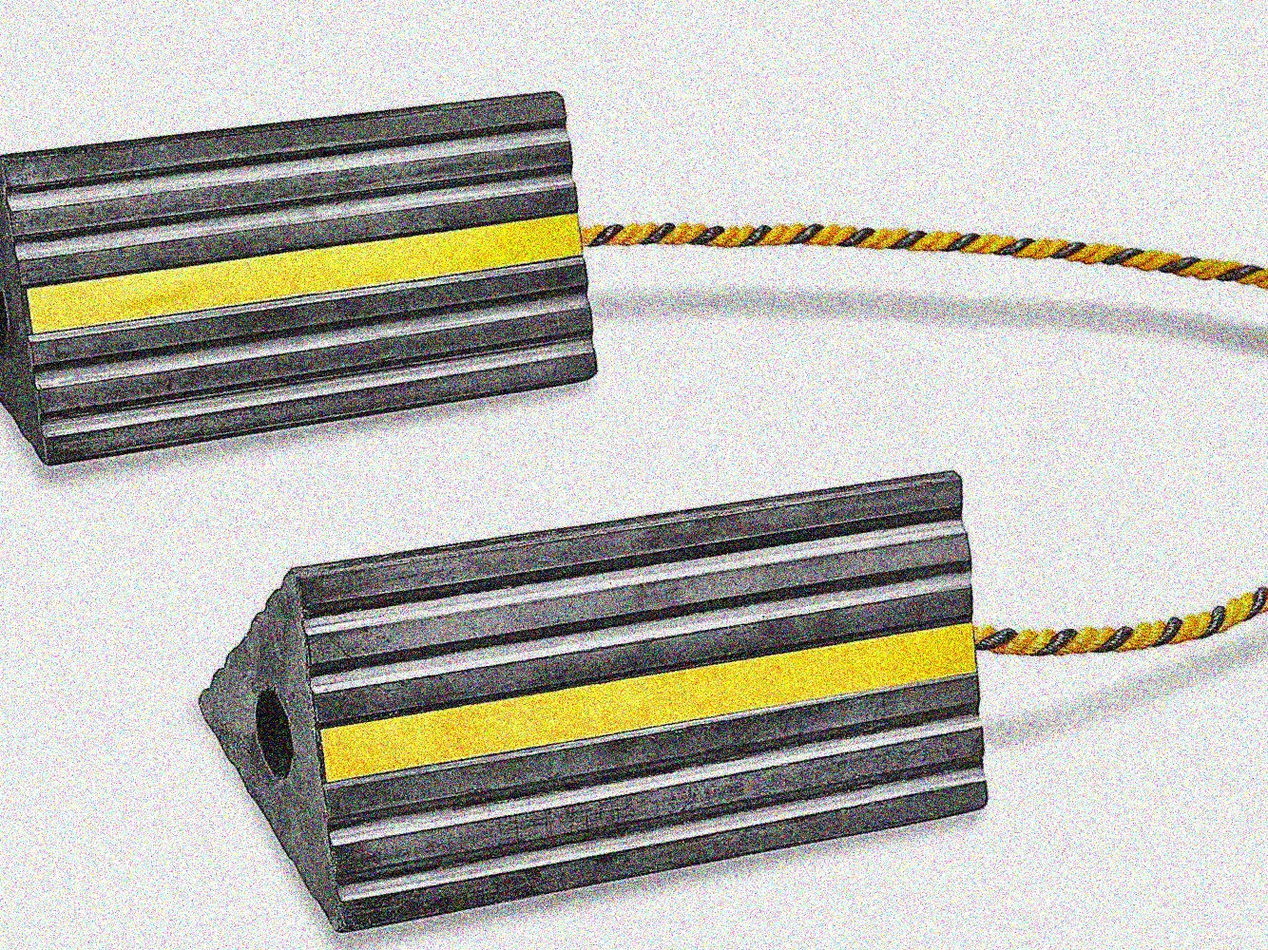chock: (157, 358, 1040, 950), (0, 0, 644, 554)
